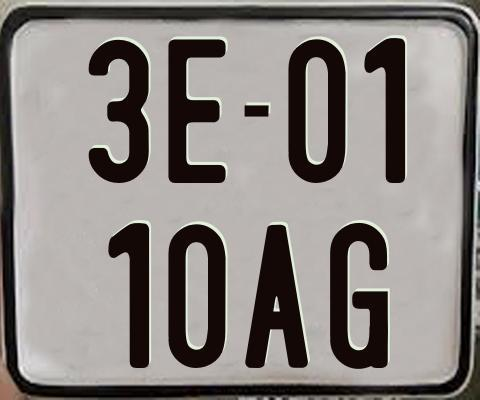0: (288, 39, 346, 188), (166, 221, 224, 367)
1: (363, 36, 408, 184), (106, 222, 148, 367)
3: (85, 38, 149, 181)
A: (243, 225, 310, 373)
E: (167, 36, 227, 182)
G: (329, 220, 393, 370)
